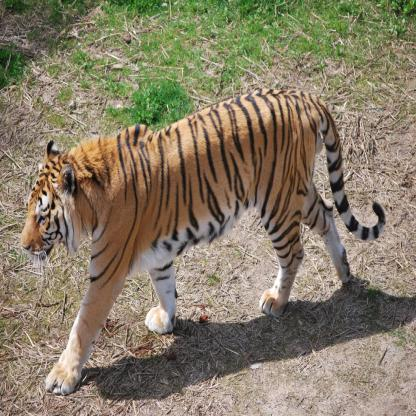tiger: (14, 138, 98, 269)
